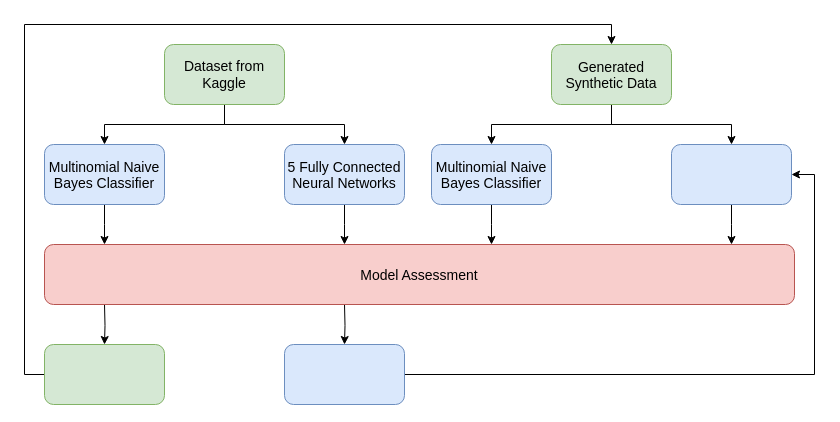
The diagram is 840 pixels wide and 422 high, and some of its shapes have lost their labels. The centre of each missing label's shape, as x and y in pixels:
Birdectional LSTM: (x=731, y=174)
Generating Synthetic Data: (x=104, y=374)
The Chosed Solution: (x=344, y=374)
